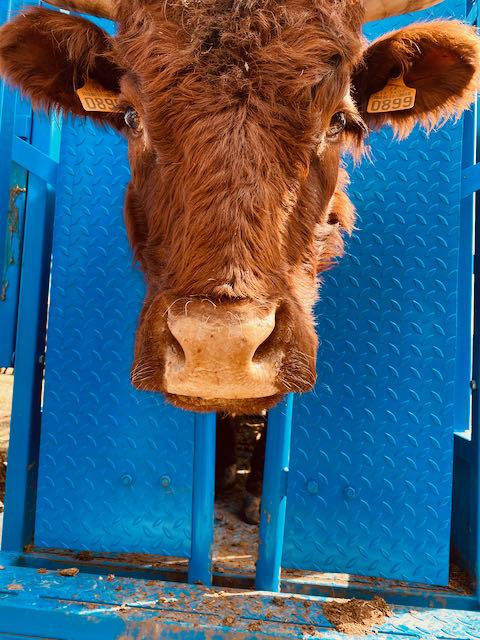muzzles: (120, 292, 324, 416)
